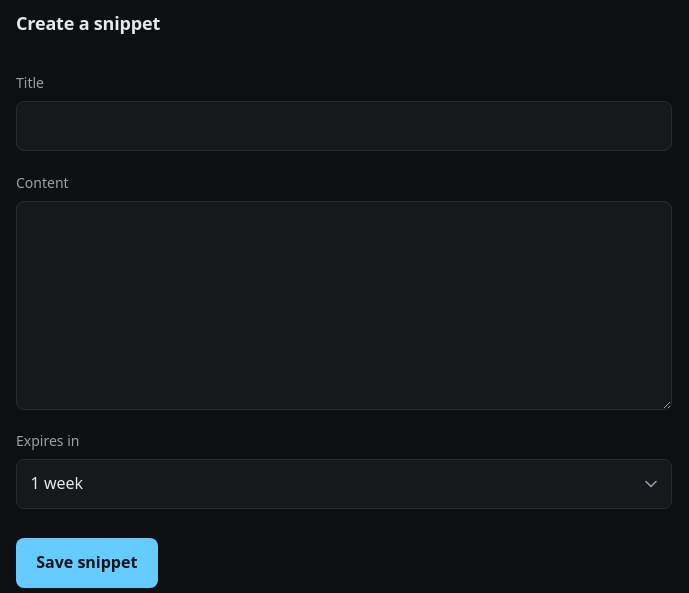
Scenario: CreateSnippet › puts 422 field errors under the matching inputs
The width and height of the screenshot is (689, 593).
Click the button "Save snippet" at (87, 563), box [16,538,158,588]
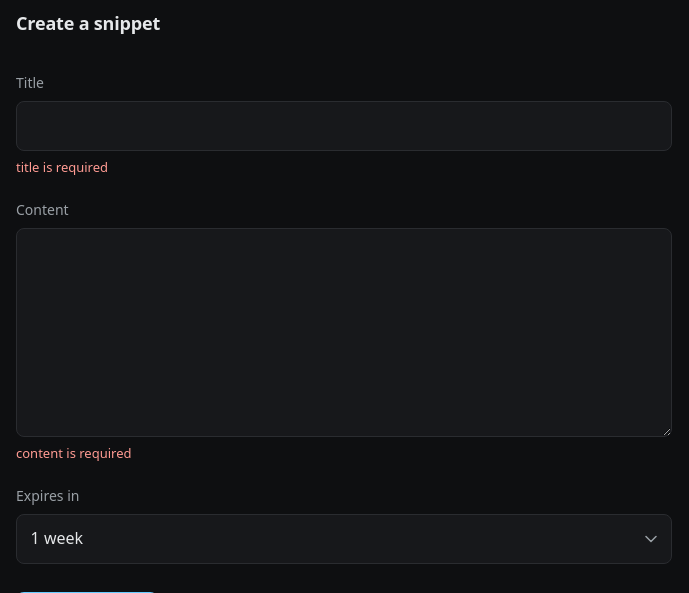
Expected: the text "title is required" is shown, [16,158,108,176]
Expected: the text "content is required" is shown, [16,444,132,462]
